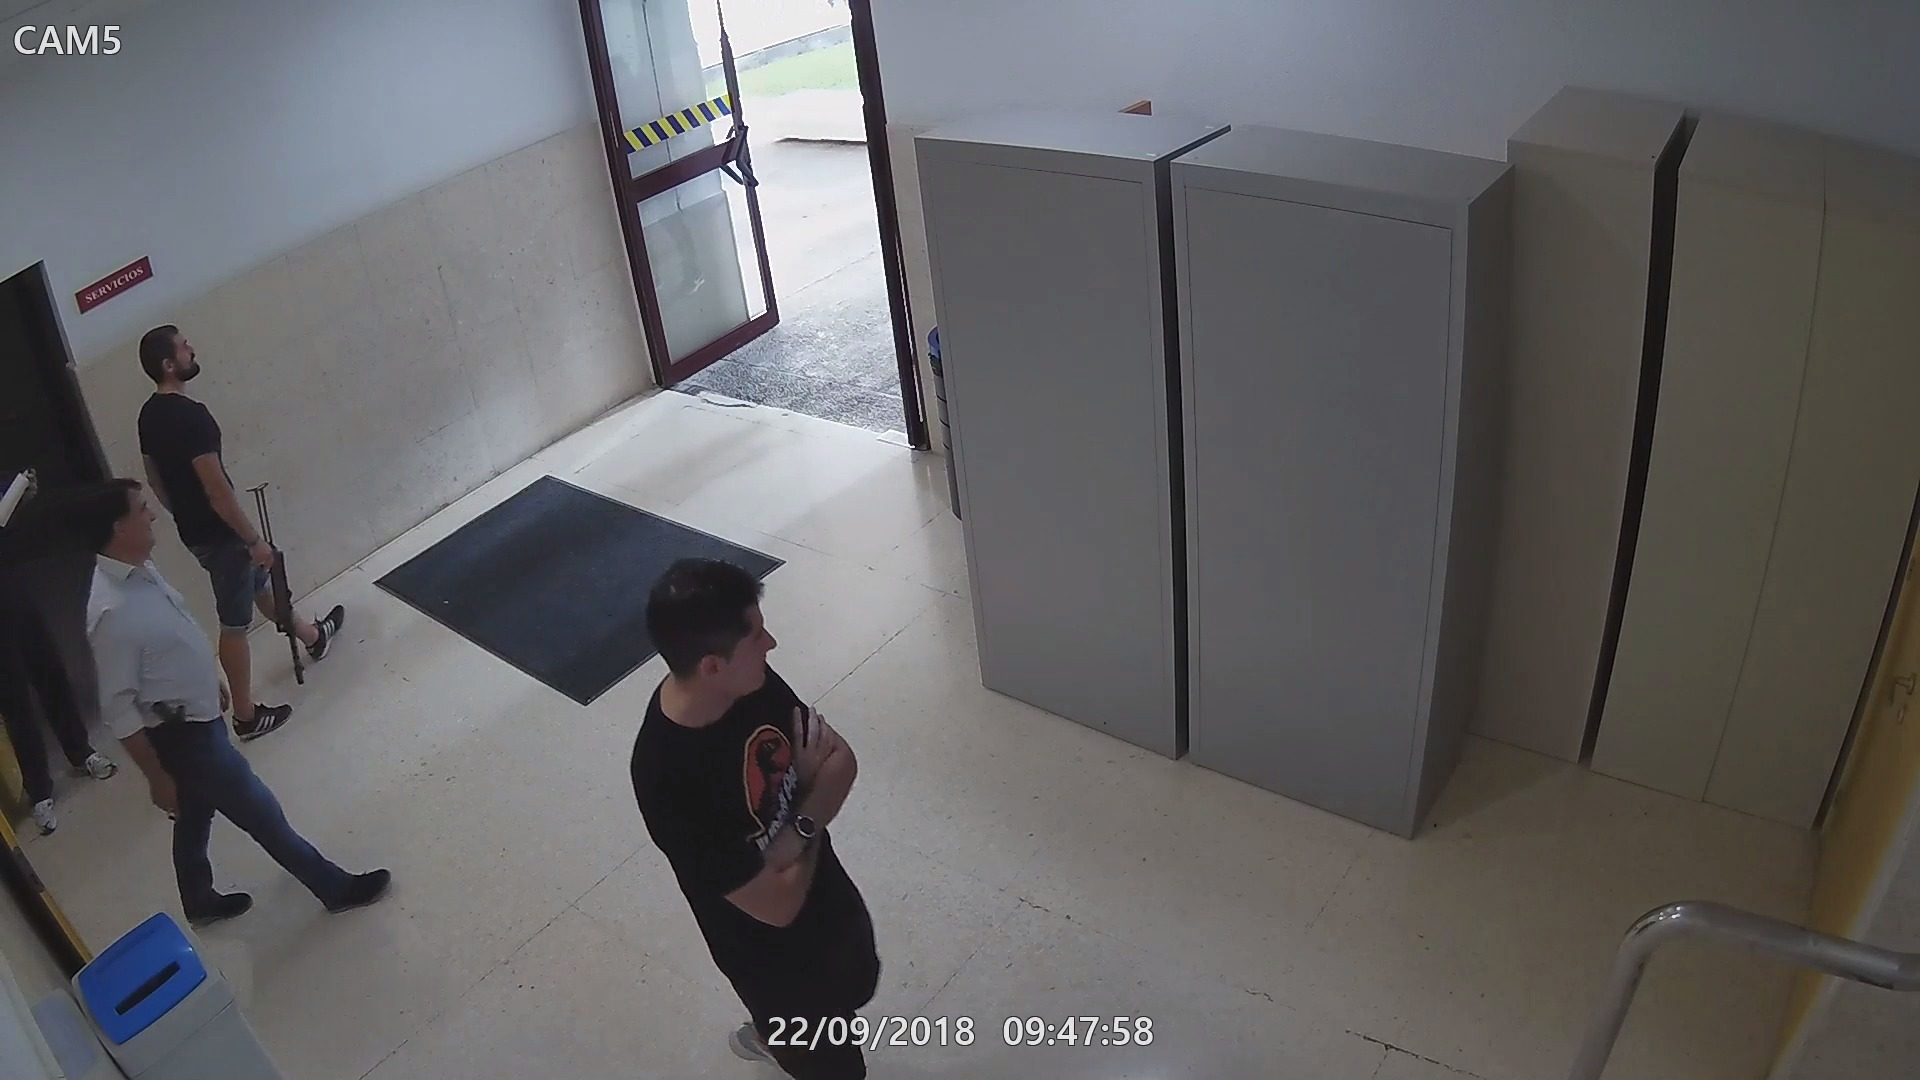Handgun: (150, 770, 195, 843)
Short_rifle: (253, 541, 309, 684)
